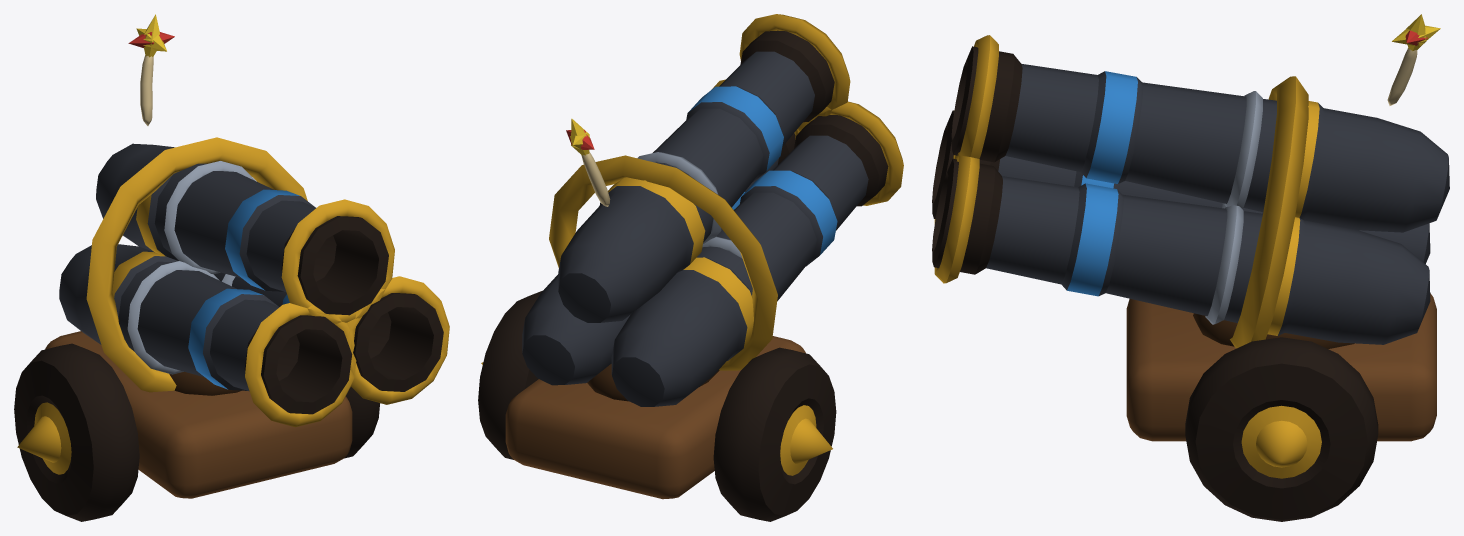
The picture shows the model from 3 angles, left to right: view 1: azimuth 30°, elevation 25°; view 2: azimuth 150°, elevation 25°; view 3: azimuth 270°, elevation 25°; orthographic projection. The views are drawn at different scales.
Parts seen in each view (by area): view 1: bomba_1_torreta, bomba_0_base; view 2: bomba_1_torreta, bomba_0_base; view 3: bomba_1_torreta, bomba_0_base.
Boxes of the visible parts, left/top/right/bottom form: bomba_1_torreta: left=59, top=14, right=449, bottom=427; bomba_0_base: left=14, top=331, right=380, bottom=521; bomba_1_torreta: left=522, top=14, right=903, bottom=406; bomba_0_base: left=478, top=290, right=836, bottom=521; bomba_1_torreta: left=932, top=14, right=1449, bottom=348; bomba_0_base: left=1126, top=293, right=1436, bottom=521.
Bounding box in the file's own units: 0.784 × 0.867 × 0.9009.
